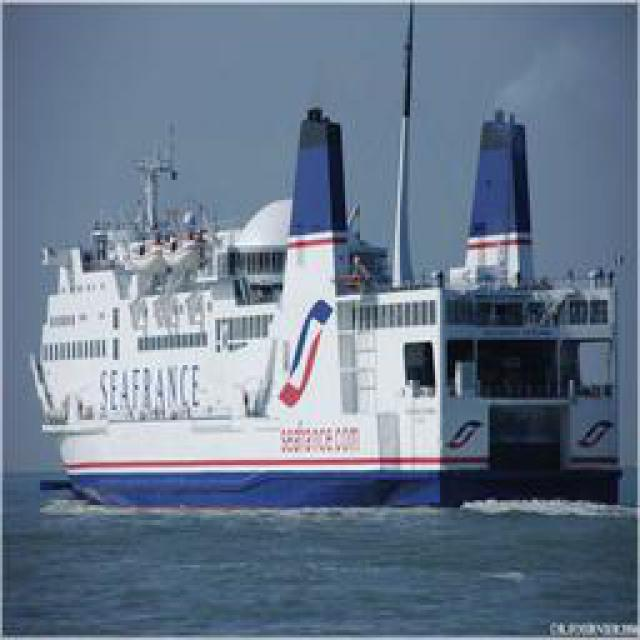Ship: (42, 85, 620, 500)
